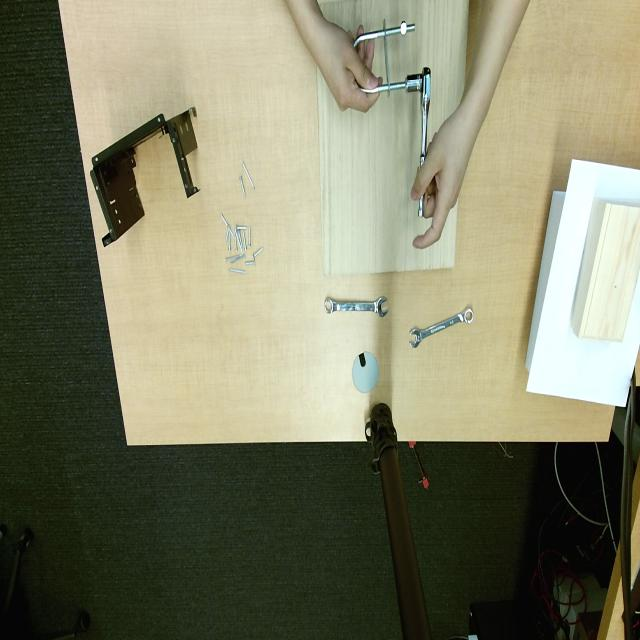wrench: (410, 307, 474, 348), (325, 296, 388, 318), (420, 67, 431, 163)
